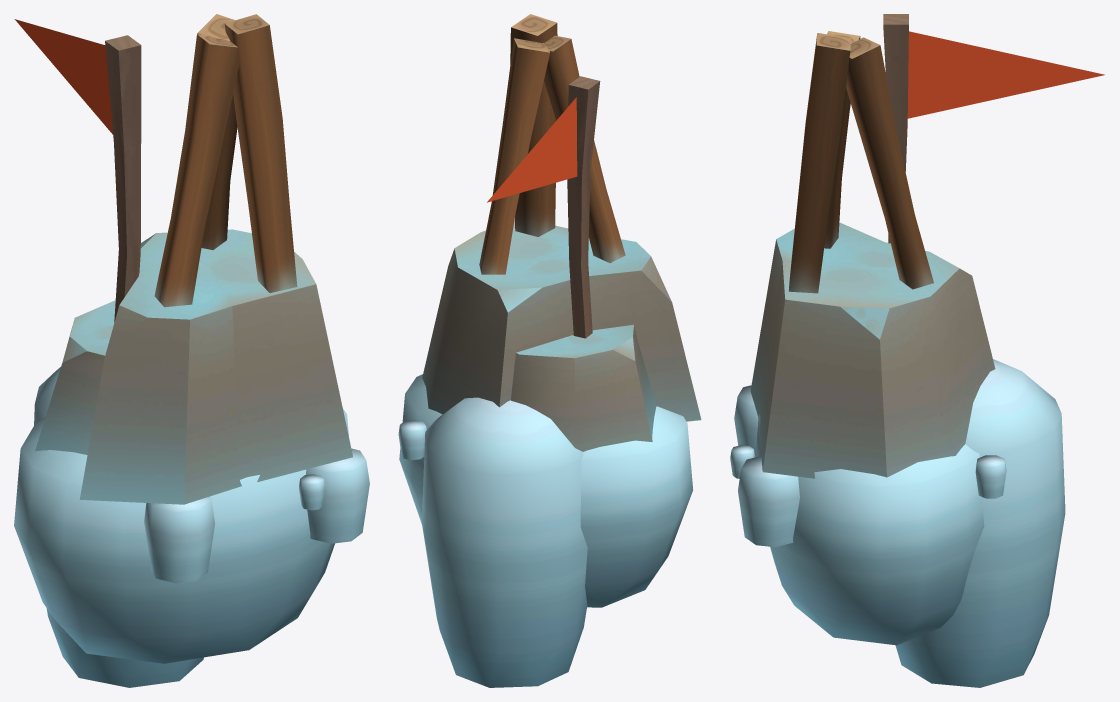
The model's file is Obstacle1B-002_02_18_8618.fbx.
The picture shows the model from 3 angles, left to right: view 1: azimuth 30°, elevation 25°; view 2: azimuth 150°, elevation 25°; view 3: azimuth 270°, elevation 25°; orthographic projection. The views are drawn at different scales.
Visible parts, largest first — view 1: Rock (2), Snowpile, Wood3 (1), Wood1 (1), Wood1.002 (1), Rock, Snowpile (5), Snowpile (1), Snowpile (3), Flag1.001 (1), Wood2 (1), Snowpile (4); view 2: Snowpile (1), Rock (2), Snowpile, Rock, Wood2 (1), Wood1.002 (1), Wood1 (1), Wood3 (1), Flag1.001 (1), Snowpile (2); view 3: Rock (2), Snowpile, Snowpile (1), Wood3 (1), Flag1.001 (1), Wood2 (1), Snowpile (3), Wood1.002 (1), Wood1 (1), Snowpile (2), Snowpile (5).
Boxes of the visible parts, x1,y1,x2,y2 form: Rock (2): (79,229,352,504); Snowpile: (14,409,348,663); Wood3 (1): (224,14,297,292); Wood1 (1): (154,34,239,307); Wood1.002 (1): (105,35,141,322); Rock: (35,300,115,454); Snowpile (5): (144,496,215,583); Snowpile (1): (34,367,203,687); Snowpile (3): (306,448,369,543); Flag1.001 (1): (14,19,113,134); Wood2 (1): (197,14,237,249); Snowpile (4): (299,474,325,510); Snowpile (1): (421,397,587,687); Rock (2): (422,219,701,421); Snowpile: (399,374,692,607); Rock: (511,324,656,451); Wood2 (1): (479,38,549,274); Wood1.002 (1): (567,76,600,338); Wood1 (1): (544,35,625,263); Wood3 (1): (510,14,557,236); Flag1.001 (1): (487,97,577,202); Snowpile (2): (398,420,426,460); Rock (2): (750,222,995,478); Snowpile: (755,413,984,645); Snowpile (1): (895,359,1065,687); Wood3 (1): (788,33,850,293); Flag1.001 (1): (907,31,1104,118); Wood2 (1): (846,37,933,289); Snowpile (3): (738,456,799,547); Wood1.002 (1): (883,14,908,243); Wood1 (1): (824,31,860,248); Snowpile (2): (975,455,1006,498); Snowpile (5): (734,385,758,456).
Bounding box in the file's own units: 2.73 × 5.67 × 3.01.
